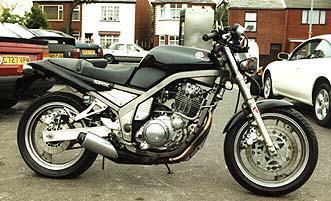motorcycle: (12, 14, 324, 200)
